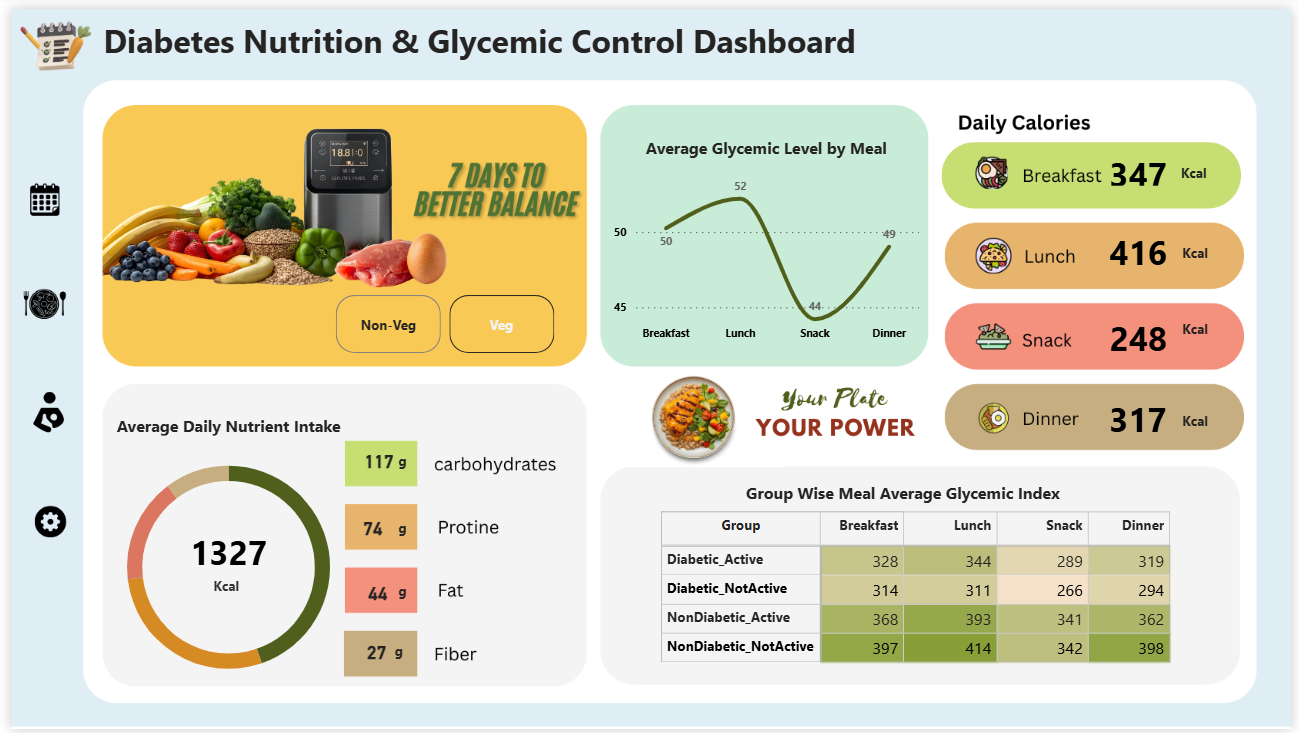

The dashboard page shown, as its layout file describes it:
{"tool":"powerbi","page":{"name":"Page 1","canvas":[1280,720],"ordinal":0},"visuals":[{"type":"textbox","box":[87.8,5.5,817.8,72.7],"z":0},{"type":"cardVisual","fields":{"Data":["Diabetic.Average Breakfast CaloriesAvg Breakfast Calories"]},"box":[1071.7,118,112.5,64.5],"z":1000},{"type":"cardVisual","fields":{"Data":["Diabetic.Average Lunch CaloriesAvg Lunch Calories"]},"box":[1066.2,185.2,122.1,107],"z":2000},{"type":"cardVisual","fields":{"Data":["Diabetic.Average Snack CaloriesAvg Snack Calories"]},"box":[1074.4,281.3,105.7,68.6],"z":3000},{"type":"cardVisual","fields":{"Data":["Diabetic.Average Dinner CaloriesAvg Dinner Calories"]},"box":[1073.1,362.3,109.8,75.5],"z":4000},{"type":"lineChart","title":"Average Glycemic Level by Meal","fields":{"Category":["Diabetic.Meal"],"Y":["Diabetic.Average Glycemic Index by MealAvg Glycemic Index"]},"box":[596.9,127.6,315.6,214.1],"z":5000},{"type":"donutChart","title":"Average Daily Nutrient Intake","fields":{"Y":["Diabetic.Avg Carbs per Day per GroupAvg Carbs per Day per Group","Diabetic.Avg Protein per Day per GroupAvg Protein per Day per Group","Diabetic.Avg Fat per Day per GroupAvg Fat per Day per Group","Diabetic.Avg Fiber per Day per GroupAvg Fiber per Day per Group"]},"box":[19.2,404.8,397.9,285.4],"z":6000},{"type":"cardVisual","fields":{"Data":["Diabetic.Avg Calories per Day per GroupAvg Calories per Day per Group"]},"box":[150.9,487.1,133.1,100.2],"z":7000},{"type":"textbox","box":[197.6,562.6,49.4,43.9],"z":7001},{"type":"cardVisual","fields":{"Data":["Diabetic.Avg Carbs per Day per GroupAvg Carbs per Day per Group"]},"box":[336.2,411.7,74.1,75.5],"z":7002},{"type":"cardVisual","fields":{"Data":["Diabetic.Avg Protein per Day per GroupAvg Protein per Day per Group"]},"box":[334.8,477.5,86.4,75.5],"z":7003},{"type":"cardVisual","fields":{"Data":["Diabetic.Avg Fat per Day per GroupAvg Fat per Day per Group"]},"box":[340.3,547.5,70,65.9],"z":7004},{"type":"cardVisual","fields":{"Data":["Diabetic.Avg Fiber per Day per GroupAvg Fiber per Day per Group"]},"box":[338.9,607.9,74.1,64.5],"z":7005},{"type":"pivotTable","fields":{"Rows":["Diabetic.Group"],"Columns":["Diabetic.Meal"],"Values":["Sum(Diabetic.Glycemic Index)"]},"box":[644.9,498.1,520.1,199],"z":7006},{"type":"textbox","box":[730,467.9,363.6,48],"z":7007},{"type":"advancedSlicerVisual","fields":{"Values":["Diabetic.Veg/Non-Veg"]},"box":[319.7,281.3,229.2,68.6],"z":7008},{"type":"textbox","box":[1165,150,62,35.7],"z":7009},{"type":"textbox","box":[1166.4,230.5,63.1,35.7],"z":7010},{"type":"textbox","box":[1166.4,306,63.1,35.7],"z":7011},{"type":"textbox","box":[1166.4,397.9,63.1,35.7],"z":7012},{"type":"textbox","box":[382.8,437.7,38.4,30.2],"z":7013},{"type":"textbox","box":[382.8,505,38.4,31.6],"z":7014},{"type":"textbox","box":[382.8,568.1,38.4,31.6],"z":7015},{"type":"textbox","box":[378.7,627,38.4,31.6],"z":7016}]}

Visuals, with their boxes in screenshot pixels (x1, y1, x2, y2), scaled from the page's 1280x720 canvas onto the 1299x733 screenshot:
textbox: detection(89, 6, 919, 80)
cardVisual - Diabetic.Average Breakfast CaloriesAvg Breakfast Calories: detection(1088, 120, 1202, 186)
cardVisual - Diabetic.Average Lunch CaloriesAvg Lunch Calories: detection(1082, 189, 1206, 297)
cardVisual - Diabetic.Average Snack CaloriesAvg Snack Calories: detection(1090, 286, 1198, 356)
cardVisual - Diabetic.Average Dinner CaloriesAvg Dinner Calories: detection(1089, 369, 1200, 446)
"Average Glycemic Level by Meal" lineChart: detection(606, 130, 926, 348)
"Average Daily Nutrient Intake" donutChart: detection(19, 412, 423, 703)
cardVisual - Diabetic.Avg Calories per Day per GroupAvg Calories per Day per Group: detection(153, 496, 288, 598)
textbox: detection(201, 573, 251, 617)
cardVisual - Diabetic.Avg Carbs per Day per GroupAvg Carbs per Day per Group: detection(341, 419, 416, 496)
cardVisual - Diabetic.Avg Protein per Day per GroupAvg Protein per Day per Group: detection(340, 486, 427, 563)
cardVisual - Diabetic.Avg Fat per Day per GroupAvg Fat per Day per Group: detection(345, 557, 416, 624)
cardVisual - Diabetic.Avg Fiber per Day per GroupAvg Fiber per Day per Group: detection(344, 619, 419, 685)
pivotTable - Diabetic.Group x Diabetic.Meal: detection(654, 507, 1182, 710)
textbox: detection(741, 476, 1110, 525)
advancedSlicerVisual - Diabetic.Veg/Non-Veg: detection(324, 286, 557, 356)
textbox: detection(1182, 153, 1245, 189)
textbox: detection(1184, 235, 1248, 271)
textbox: detection(1184, 312, 1248, 348)
textbox: detection(1184, 405, 1248, 441)
textbox: detection(388, 446, 427, 476)
textbox: detection(388, 514, 427, 546)
textbox: detection(388, 578, 427, 611)
textbox: detection(384, 638, 423, 670)
